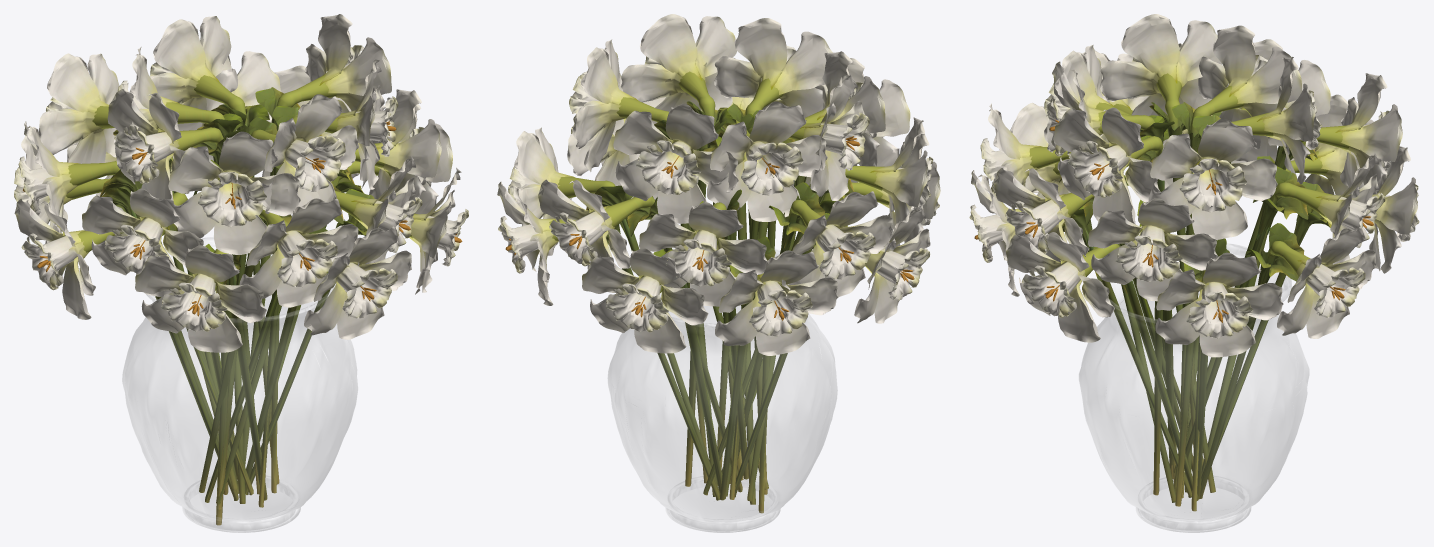
Rendered from flores-blancas-en-jarron.glb.
The picture shows the model from 3 angles, left to right: view 1: azimuth 30°, elevation 25°; view 2: azimuth 150°, elevation 25°; view 3: azimuth 270°, elevation 25°; orthographic projection. The views are drawn at different scales.
Visible parts, largest first — view 1: SketchUp.006, SketchUp.003, SketchUp, SketchUp.010; view 2: SketchUp.006, SketchUp.003, SketchUp, SketchUp.010; view 3: SketchUp.006, SketchUp.003, SketchUp, SketchUp.010.
Boxes of the visible parts, left/top/right/bottom form: SketchUp.006: left=14, top=14, right=468, bottom=352; SketchUp.003: left=122, top=237, right=357, bottom=532; SketchUp: left=66, top=74, right=417, bottom=525; SketchUp.010: left=23, top=121, right=462, bottom=316; SketchUp.006: left=497, top=14, right=940, bottom=355; SketchUp.003: left=608, top=248, right=837, bottom=532; SketchUp: left=549, top=71, right=889, bottom=513; SketchUp.010: left=505, top=136, right=914, bottom=320; SketchUp.006: left=969, top=14, right=1419, bottom=357; SketchUp.003: left=1079, top=243, right=1309, bottom=532; SketchUp: left=1021, top=73, right=1349, bottom=511; SketchUp.010: left=974, top=119, right=1373, bottom=322.
Size of the model in its own units: 0.3421 by 0.3712 by 0.3382.
6 materials, 2 textured.
